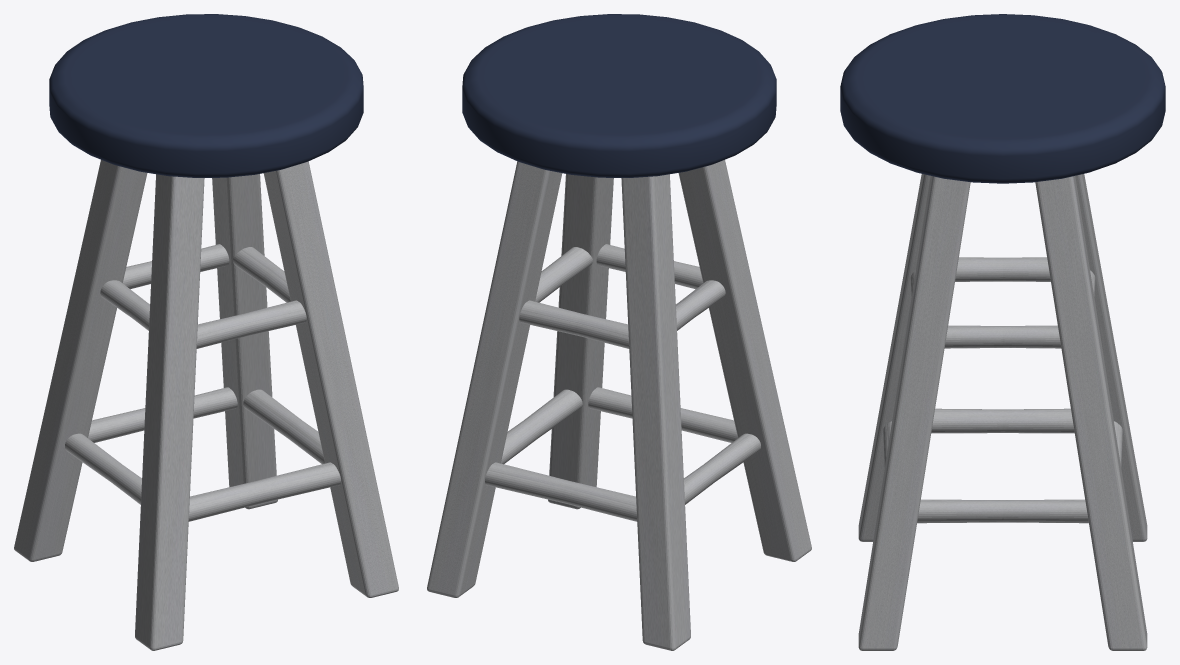
The model's file is bangkuLabFix.fbx.
3 renders of one model, left to right at view 1: azimuth 30°, elevation 25°; view 2: azimuth 150°, elevation 25°; view 3: azimuth 270°, elevation 25°, orthographic. The views are drawn at different scales.
Visible parts, largest first — view 1: Cube; view 2: Cube; view 3: Cube.
Boxes of the visible parts, box(x1,y1,x2,y2) form: Cube: box(14, 14, 398, 650); Cube: box(427, 14, 811, 650); Cube: box(840, 14, 1165, 650).
Size of the model in its own units: 55.47 by 96.29 by 55.47.
Materials: 3 (2 with a texture image).
